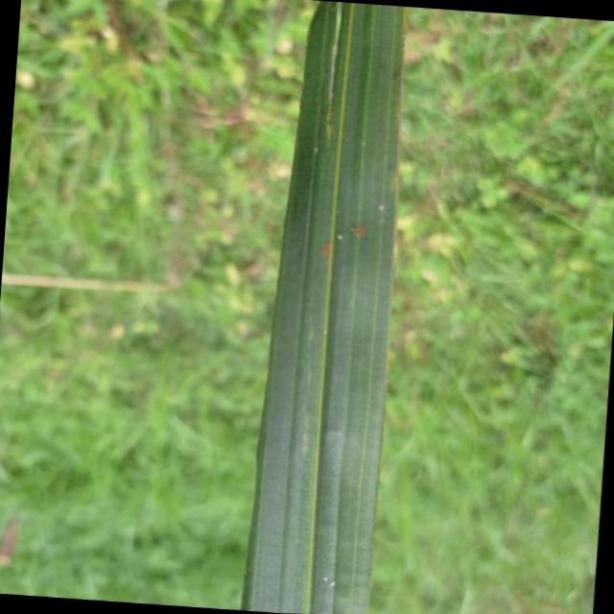Boron: (243, 0, 408, 614)
